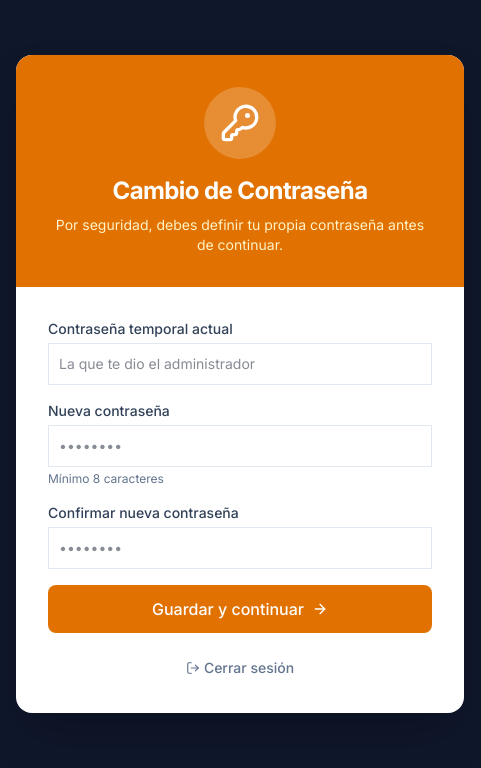
Test: ForcePasswordChange › rejects reusing the temporary password as the new one
This screenshot has width=481, height=768.
Type "cambiar123" into the password field labelled "Contraseña temporal actual" at coordinates (240, 364), box [48,343,432,385]
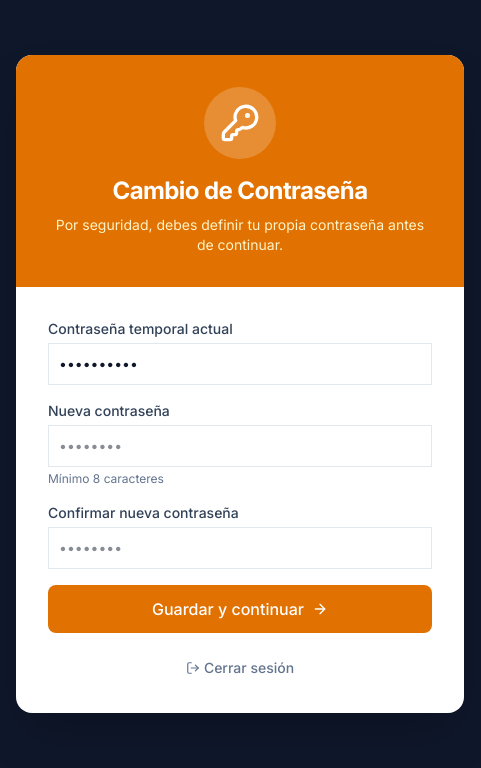
Type "cambiar123" into the password field labelled "Nueva contraseña" at coordinates (240, 446), box [48,425,432,467]
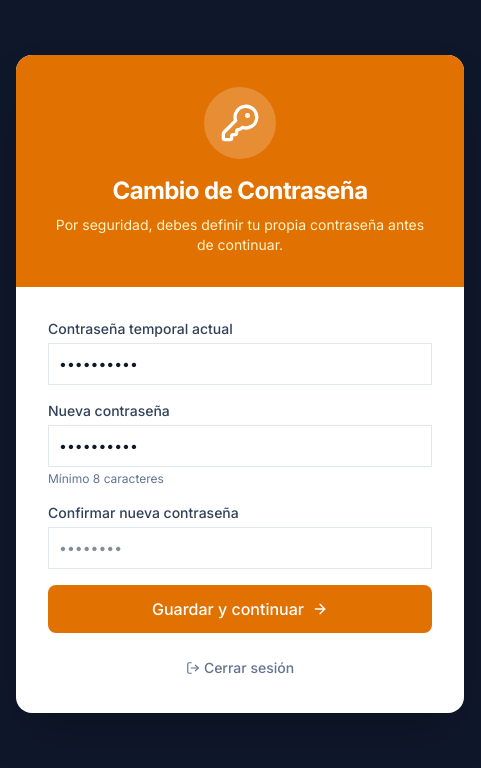
Type "cambiar123" into the password field labelled "Confirmar nueva contraseña" at coordinates (240, 548), box [48,527,432,569]
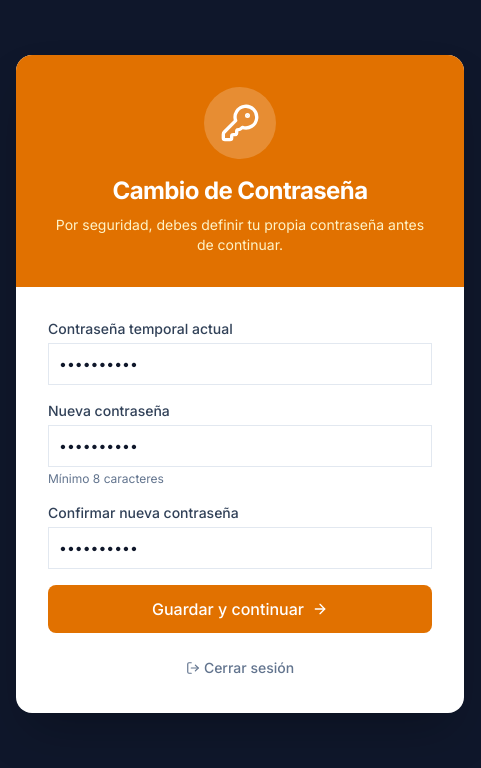
Click the button "Guardar y continuar" at coordinates (240, 609), box [48,585,432,633]
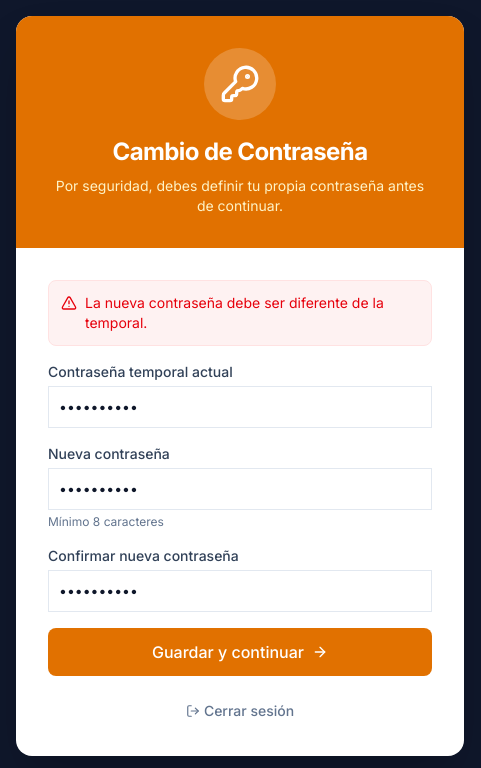
Check: the text "La nueva contraseña debe ser diferente de la temporal." is shown, box [85,293,419,333]
